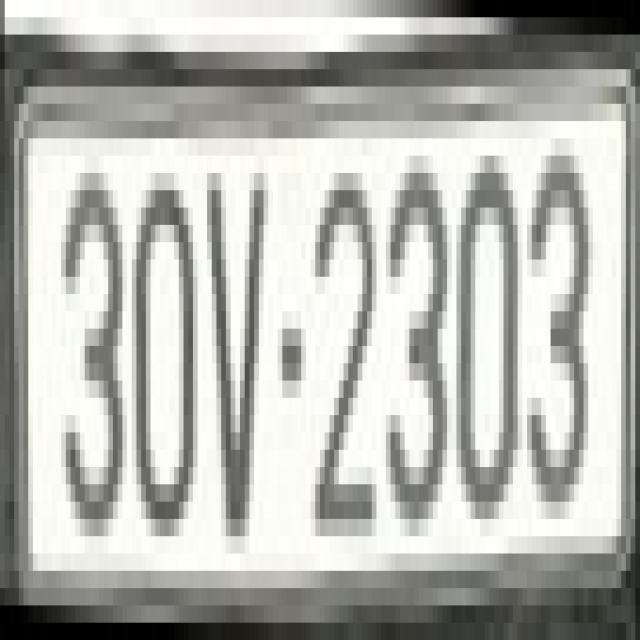0: (132, 173, 198, 536), (457, 156, 522, 519)
2: (310, 173, 376, 536)
3: (527, 138, 593, 519), (386, 156, 452, 519), (61, 173, 127, 536)
V: (207, 156, 268, 536)
